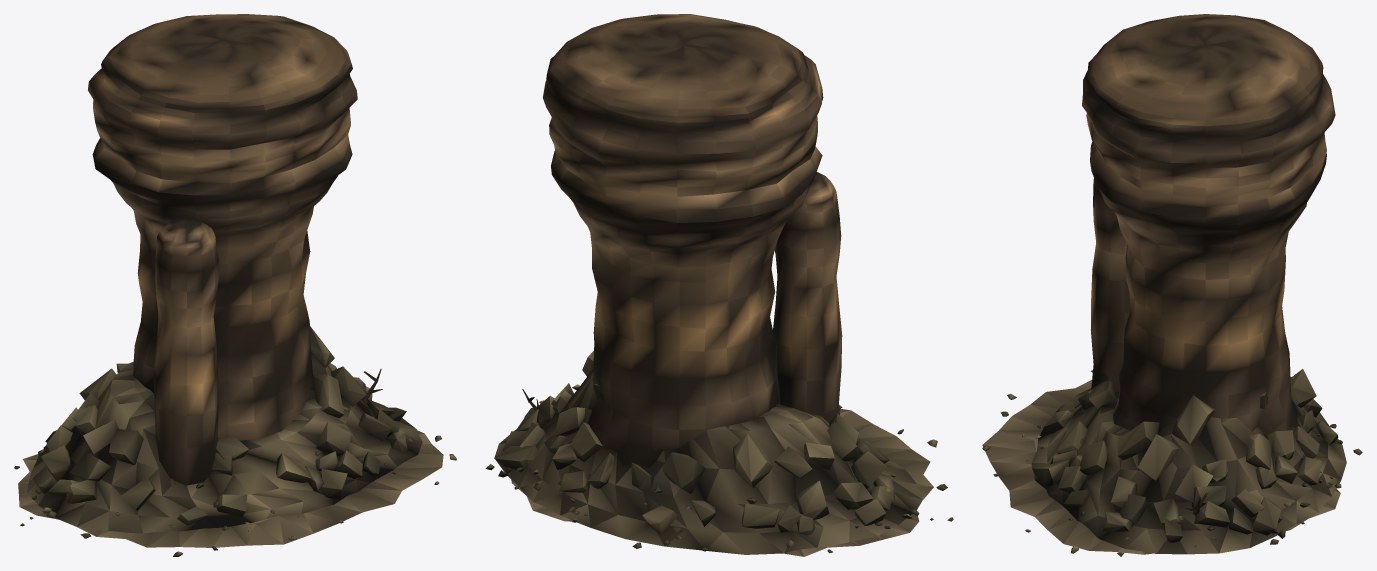
The model's file is TarSpire11.glb.
3 renders of one model, left to right at view 1: azimuth 30°, elevation 25°; view 2: azimuth 150°, elevation 25°; view 3: azimuth 270°, elevation 25°, orthographic. The views are drawn at different scales.
Visible parts, largest first — view 1: TarSpire11; view 2: TarSpire11; view 3: TarSpire11.
Boxes of the visible parts, x1=… form: TarSpire11: x1=14, y1=14, x2=456, y2=556; TarSpire11: x1=485, y1=14, x2=953, y2=556; TarSpire11: x1=982, y1=14, x2=1362, y2=556.
Size of the model in its own units: 9.31 by 9.32 by 7.37.
